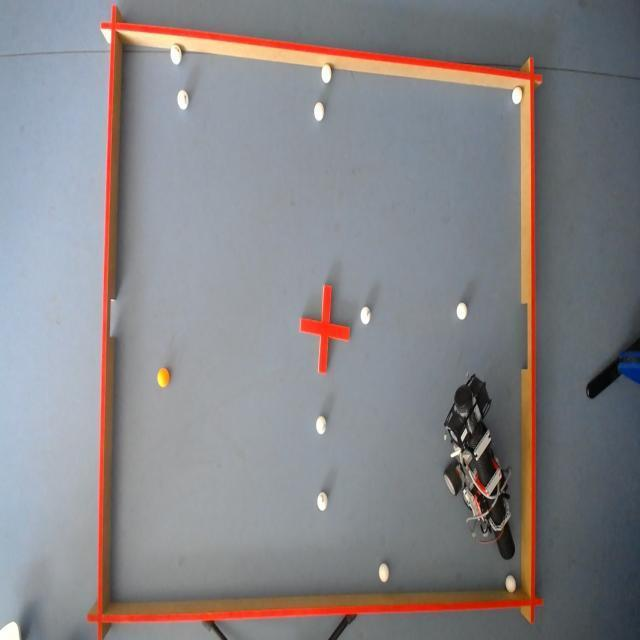orange: (155, 367, 170, 387)
robot: (448, 372, 514, 563)
white: (504, 574, 518, 595), (312, 100, 324, 123), (169, 44, 181, 66), (512, 86, 524, 107), (176, 88, 188, 109), (316, 492, 327, 514), (376, 564, 388, 584), (454, 301, 466, 321), (314, 414, 326, 434), (318, 62, 329, 82), (361, 306, 372, 324)
